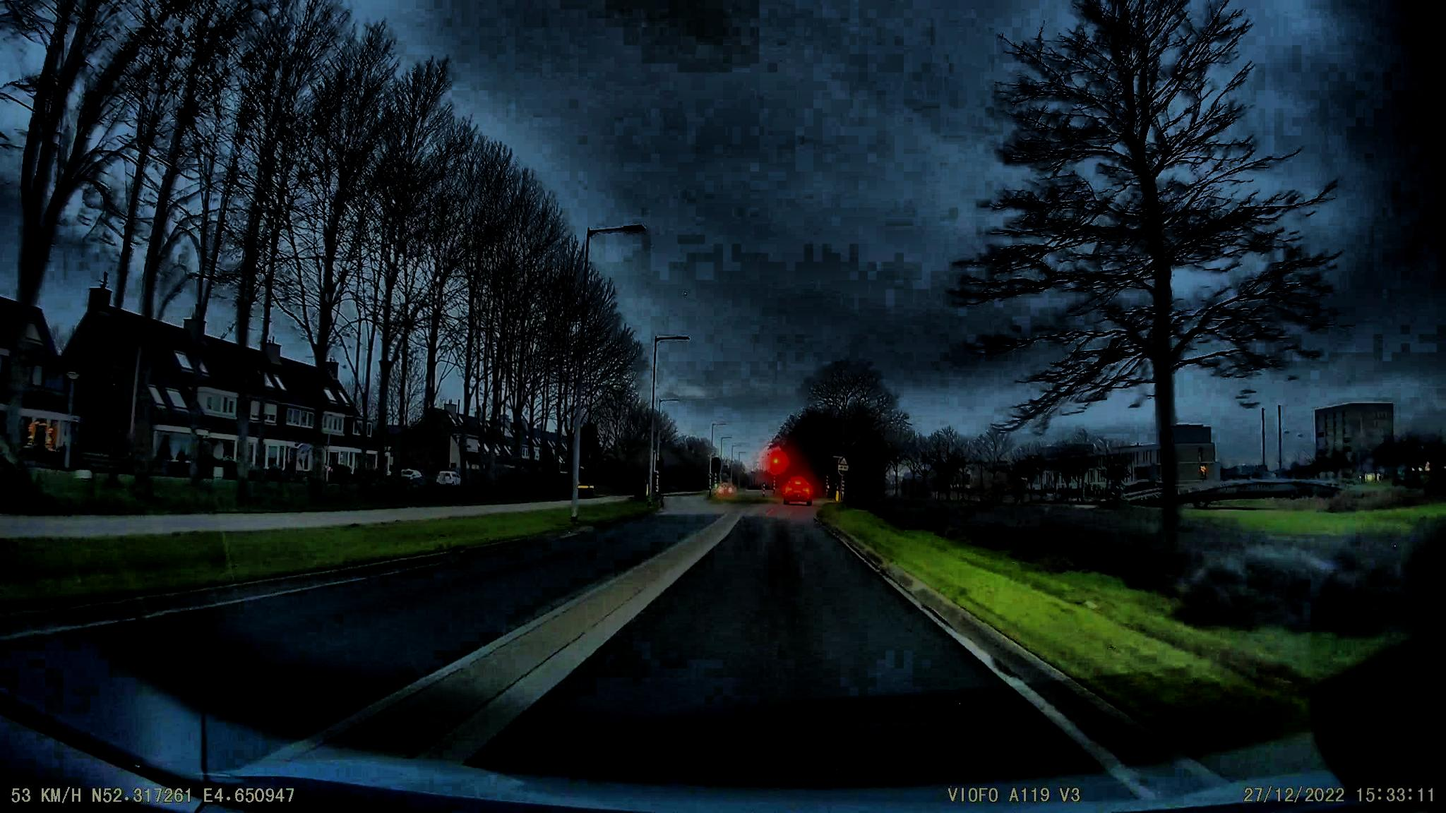Roads: (0, 515, 1131, 786)
